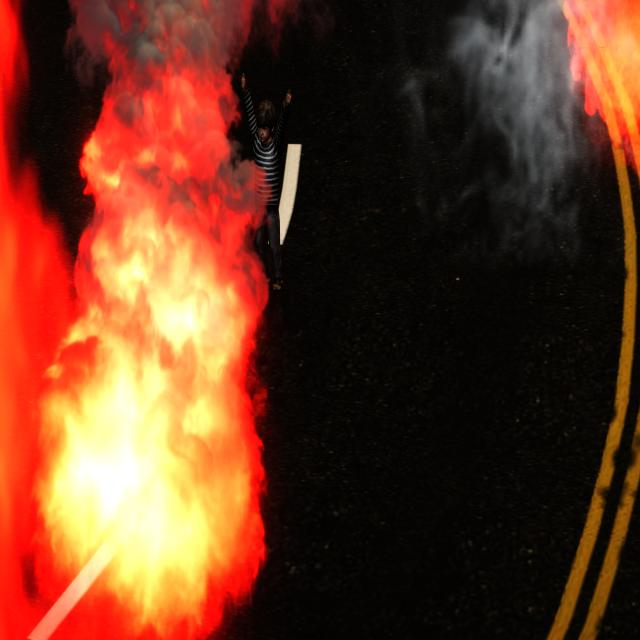Human: (238, 70, 293, 305)
